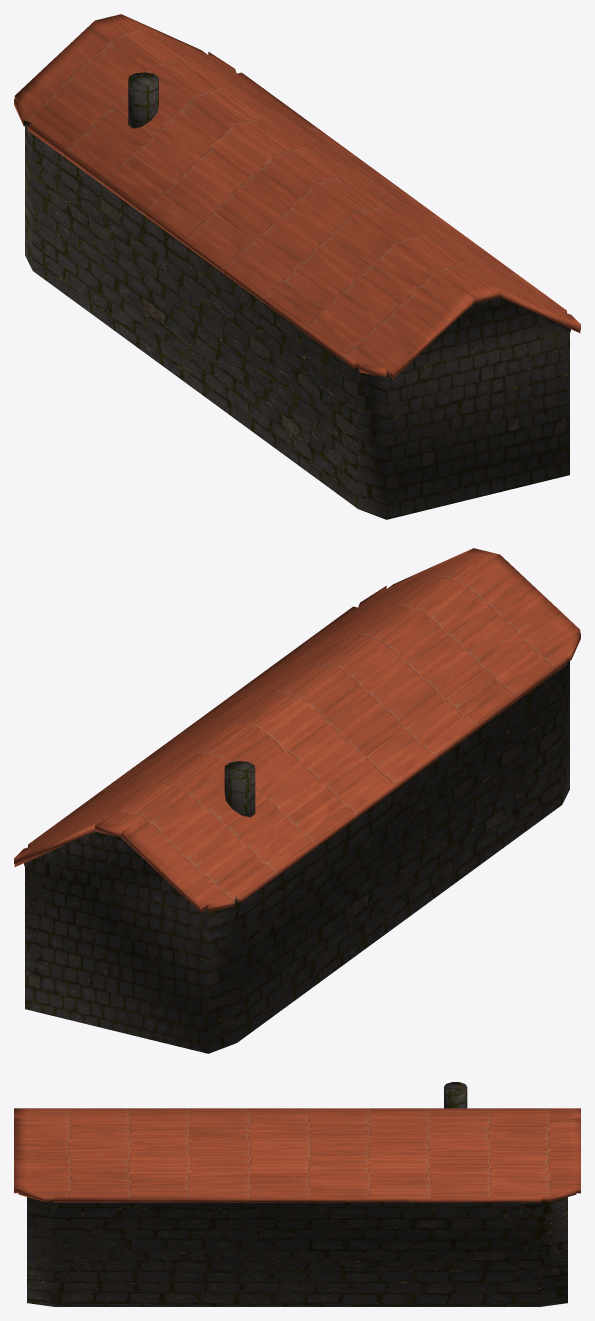
File: rural-house-big_5.fbx
3 views of the same model, one above another, from view 1: azimuth 30°, elevation 25°; view 2: azimuth 150°, elevation 25°; view 3: azimuth 270°, elevation 25° (orthographic). The views are drawn at different scales.
Visible parts, largest first — view 1: Cube.002; view 2: Cube.002; view 3: Cube.002.
Part boxes in pixels (x1=…): Cube.002: x1=14, y1=14, x2=580, y2=519; Cube.002: x1=14, y1=548, x2=580, y2=1053; Cube.002: x1=14, y1=1082, x2=580, y2=1306.
Size of the model in its own units: 400 by 395 by 1228.
